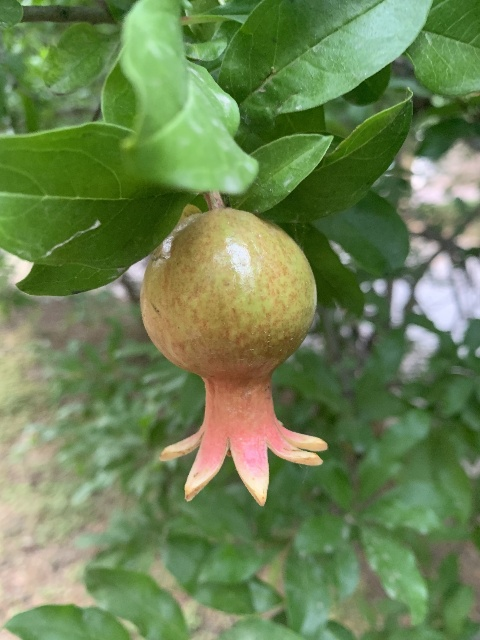early-fruit: (141, 205, 330, 510)
